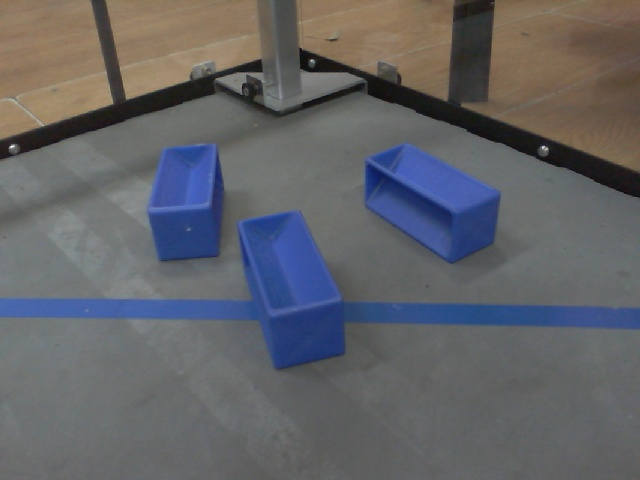BlueSample: (232, 206, 352, 373), (359, 140, 502, 268), (142, 139, 226, 264)
